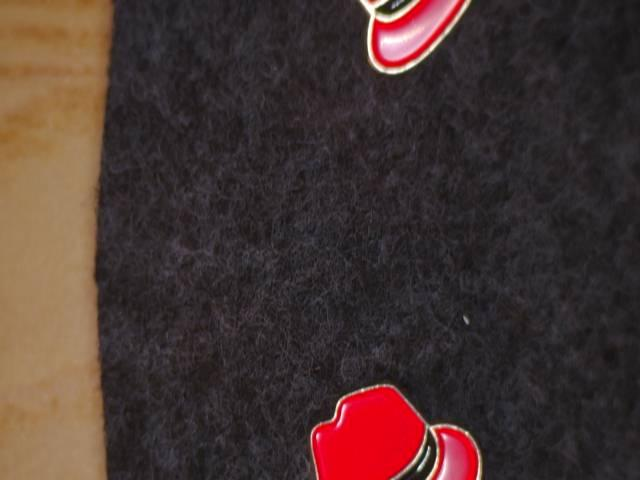Red-Hat: (282, 370, 504, 480), (344, 0, 532, 83)
